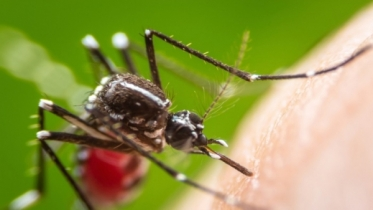dengue_mosquito: (36, 28, 266, 177)
